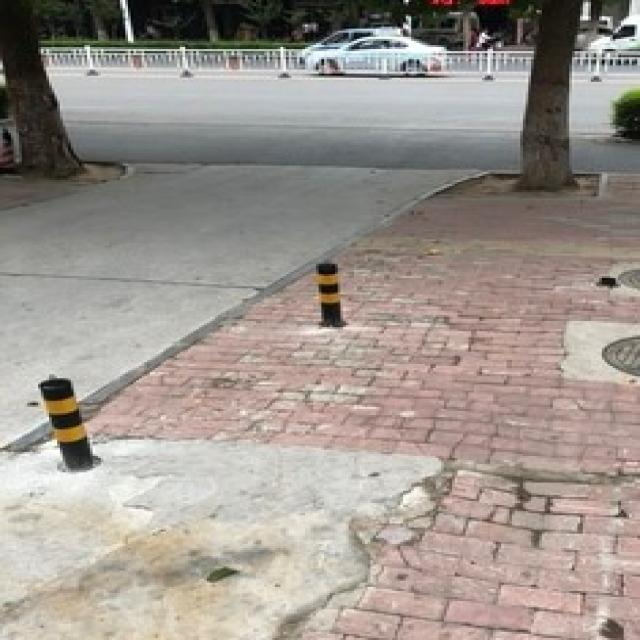car: (302, 28, 452, 76)
warning_column: (36, 374, 92, 468), (305, 256, 349, 329)
